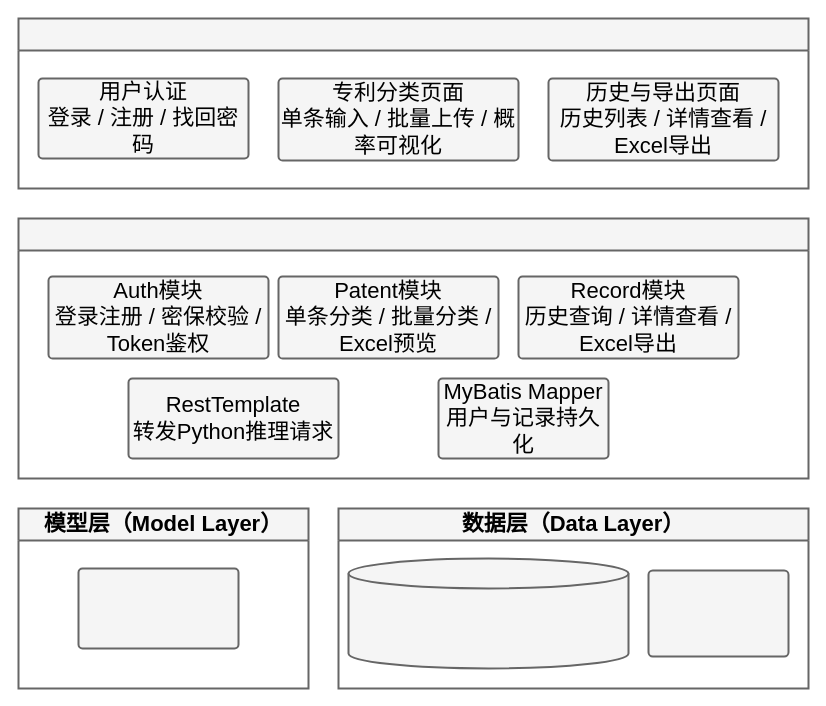
The diagram is 826 pixels wide and 706 high, and some of its shapes have lost their labels. Here are the shapes that lost their labels. From the top down, the box of each, then its label:
(17, 17, 809, 189): 表现层（Presentation Layer）
(17, 217, 809, 479): 服务层（Service Layer）
(77, 567, 239, 649): 分词器和编码器
(347, 557, 629, 669): MySQL5.7 user classification_record
(647, 569, 789, 657): 模型权重
